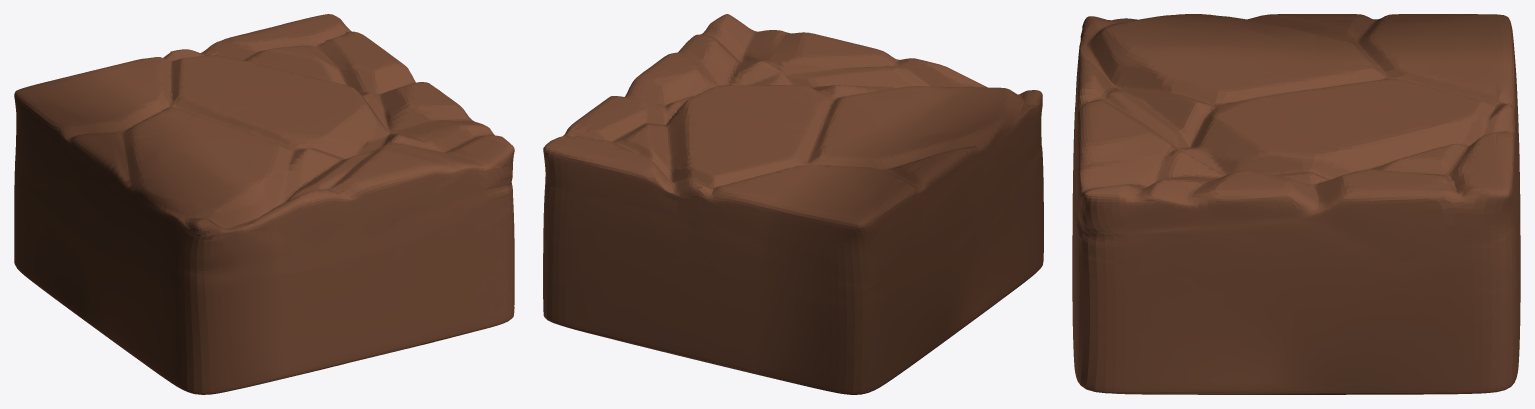
File: floor_tiles.fbx
The picture shows the model from 3 angles, left to right: view 1: azimuth 30°, elevation 25°; view 2: azimuth 150°, elevation 25°; view 3: azimuth 270°, elevation 25°; orthographic projection. The views are drawn at different scales.
Visible parts, largest first — view 1: Retopo_Plane; view 2: Retopo_Plane; view 3: Retopo_Plane.
Boxes of the visible parts, x1,y1,x2,y2 form: Retopo_Plane: (14,14,514,394); Retopo_Plane: (543,14,1043,394); Retopo_Plane: (1072,14,1520,394).
Size of the model in its own units: 400 by 200 by 400.
1 material, 1 textured.
